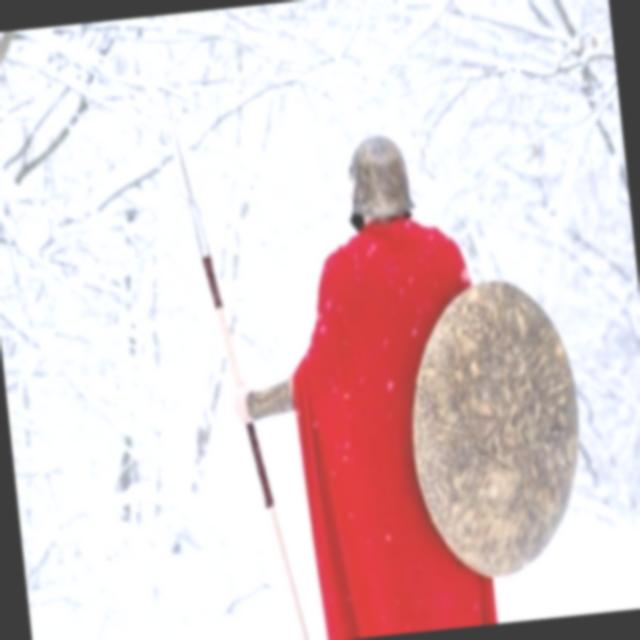spear: (143, 103, 316, 640)
